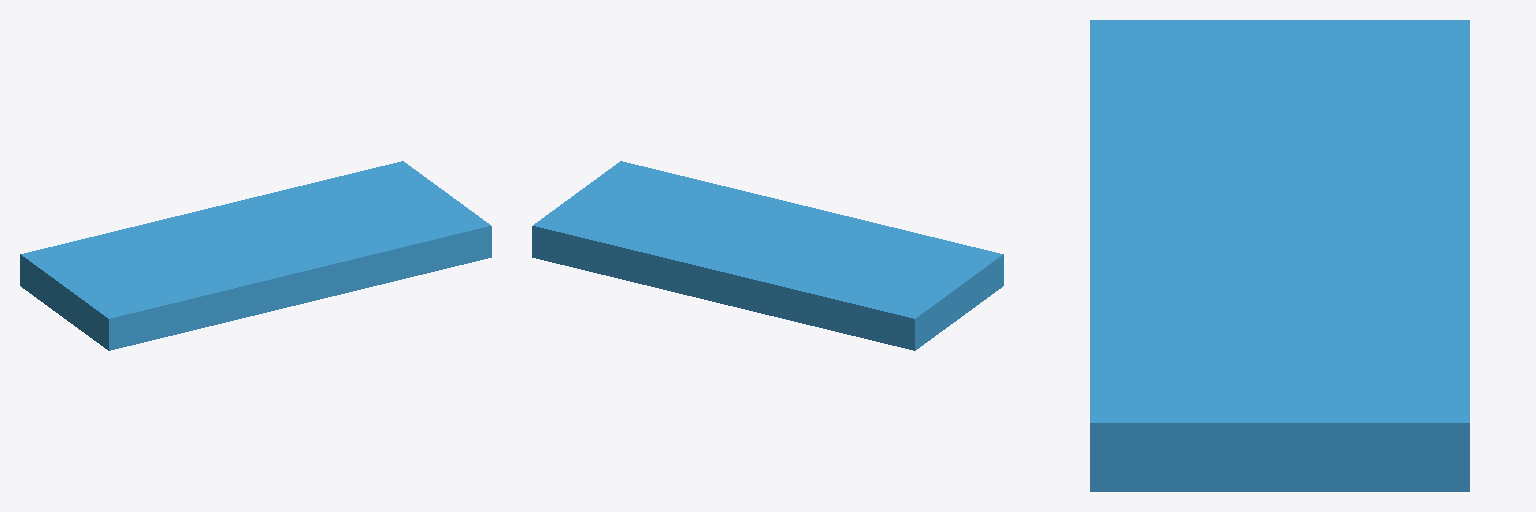
The robot description file, URDF, robot "conveyor_belt":
<?xml version="1.0"?>
<robot name="conveyor_belt">

<!-- conveyor belt is just a long flat box for objects to slide on it -->

<!-- world link -->
<link name="world"/>

<!-- base_link and its fixed joint -->
<joint name="joint_fix" type="fixed">
  <parent link="world"/>
  <child link="base_link"/>
</joint>


<link name="base_link">
  <collision>
    <origin xyz="0 0 0.1" rpy="0 0 0"/>
    <geometry>
      <box size="2.5 1 0.2"/>
    </geometry>
  </collision>

  <visual>
    <origin xyz="0 0 0.1" rpy="0 0 0"/>
    <geometry>
      <box size="2.5 1 0.2"/>
    </geometry>
  </visual>

  <inertial>
    <origin xyz="0 0 0.1" rpy="0 0 0"/>
    <mass value="1"/>
    <inertia
      ixx="1.0" ixy="0.0" ixz="0.0"
      iyy="1.0" iyz="0.0"
      izz="1.0"/>
  </inertial>
</link>

<gazebo reference="base_link">
  <mu1>0</mu1>
  <mu2>0</mu2>
  <material>Gazebo/FlatBlack</material>
</gazebo>



</robot>

--- What the picture shows (computed from the rendered views, not written in the file) ---
The picture shows the robot from 3 angles, left to right: view 1: azimuth 30°, elevation 25°; view 2: azimuth 150°, elevation 25°; view 3: azimuth 270°, elevation 25°; orthographic projection.
Robot: conveyor_belt — 2 links, 1 joints (1 fixed); root link world; default pose: all joints at 0.
Links seen in each view (by area): view 1: base_link; view 2: base_link; view 3: base_link.
Link boxes in pixels (left/top/right/bottom): base_link: left=20, top=161, right=491, bottom=350; base_link: left=532, top=161, right=1003, bottom=350; base_link: left=1090, top=20, right=1469, bottom=491.
Bounding box of the posed robot: 2.5 × 1 × 0.2 m (x, y, z).
Geometry: primitives only (box / cylinder / sphere), no mesh files.